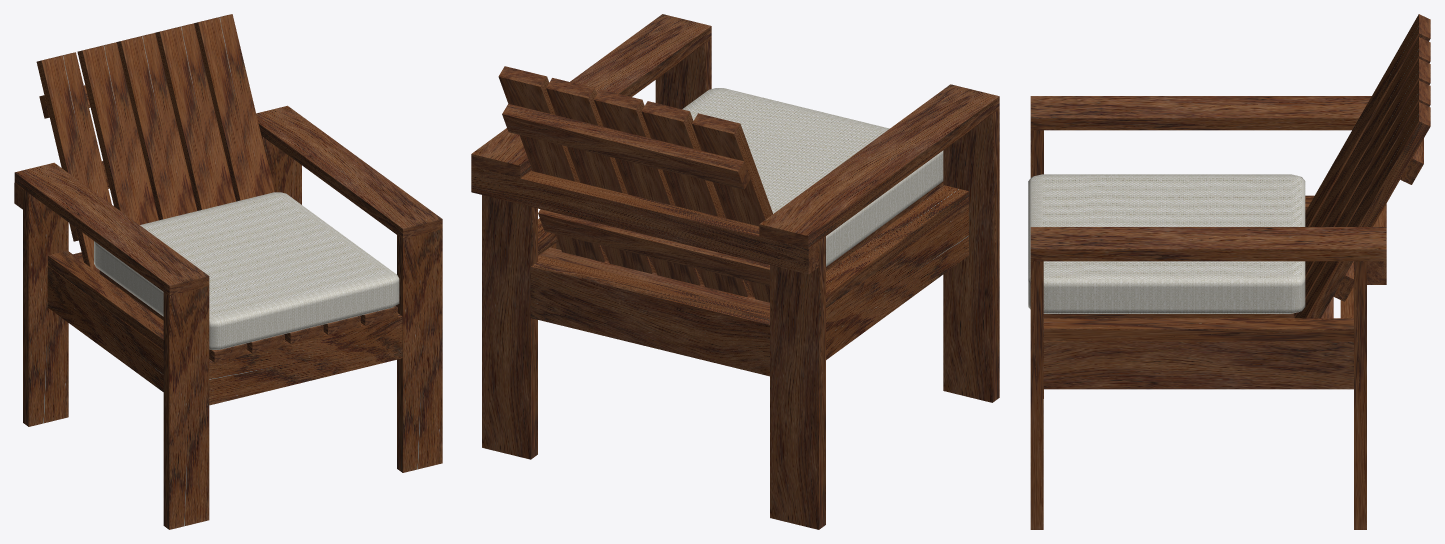
File: obj_armchair_a51e4a.glb
The picture shows the model from 3 angles, left to right: view 1: azimuth 30°, elevation 25°; view 2: azimuth 150°, elevation 25°; view 3: azimuth 270°, elevation 25°; orthographic projection. The views are drawn at different scales.
Parts seen in each view (by area): view 1: obj_armchair_a51e4a; view 2: obj_armchair_a51e4a; view 3: obj_armchair_a51e4a.
Part boxes in pixels (x1=…): obj_armchair_a51e4a: x1=14, y1=14, x2=442, y2=529; obj_armchair_a51e4a: x1=471, y1=14, x2=999, y2=529; obj_armchair_a51e4a: x1=1028, y1=14, x2=1430, y2=529.
Bounding box in the file's own units: 0.7242 × 0.85 × 0.8029.
30 materials, 30 textured.
